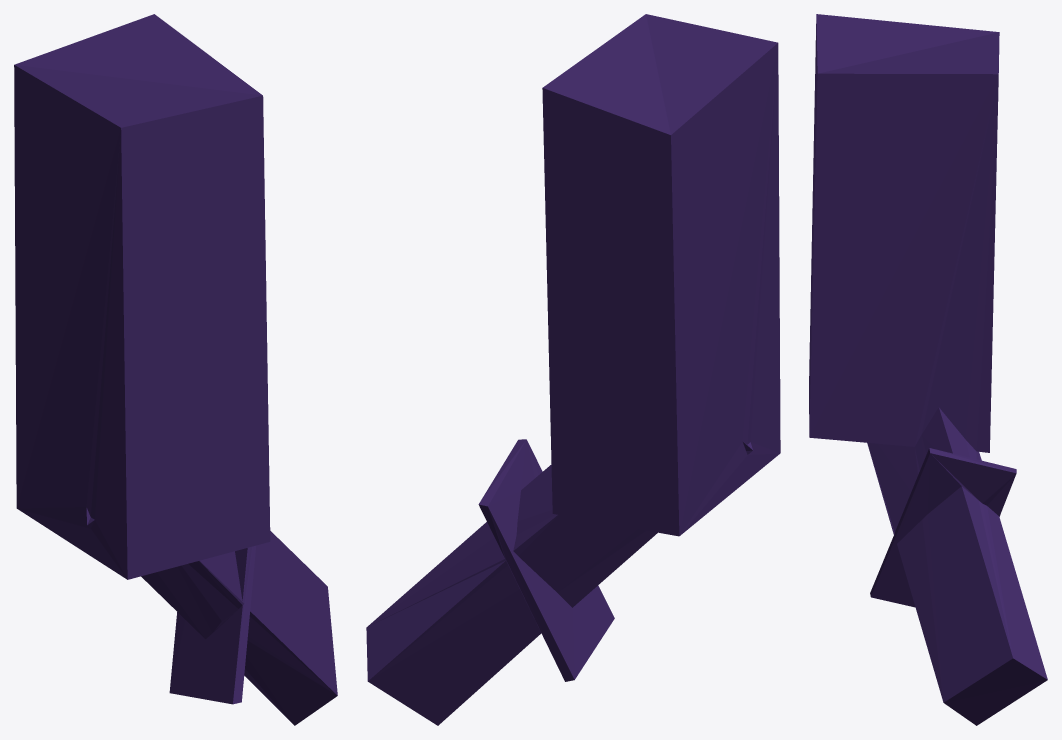
3 renders of one model, left to right at view 1: azimuth 30°, elevation 25°; view 2: azimuth 150°, elevation 25°; view 3: azimuth 270°, elevation 25°, orthographic. The views are drawn at different scales.
Parts seen in each view (by area): view 1: 863_Cube.3487; view 2: 863_Cube.3487; view 3: 863_Cube.3487.
Boxes of the visible parts, <box> form: 863_Cube.3487: <box>14,14,337,725</box>; 863_Cube.3487: <box>366,14,780,725</box>; 863_Cube.3487: <box>809,14,1047,725</box>.
Bounding box in the file's own units: 9.34 × 19.89 × 7.14.
